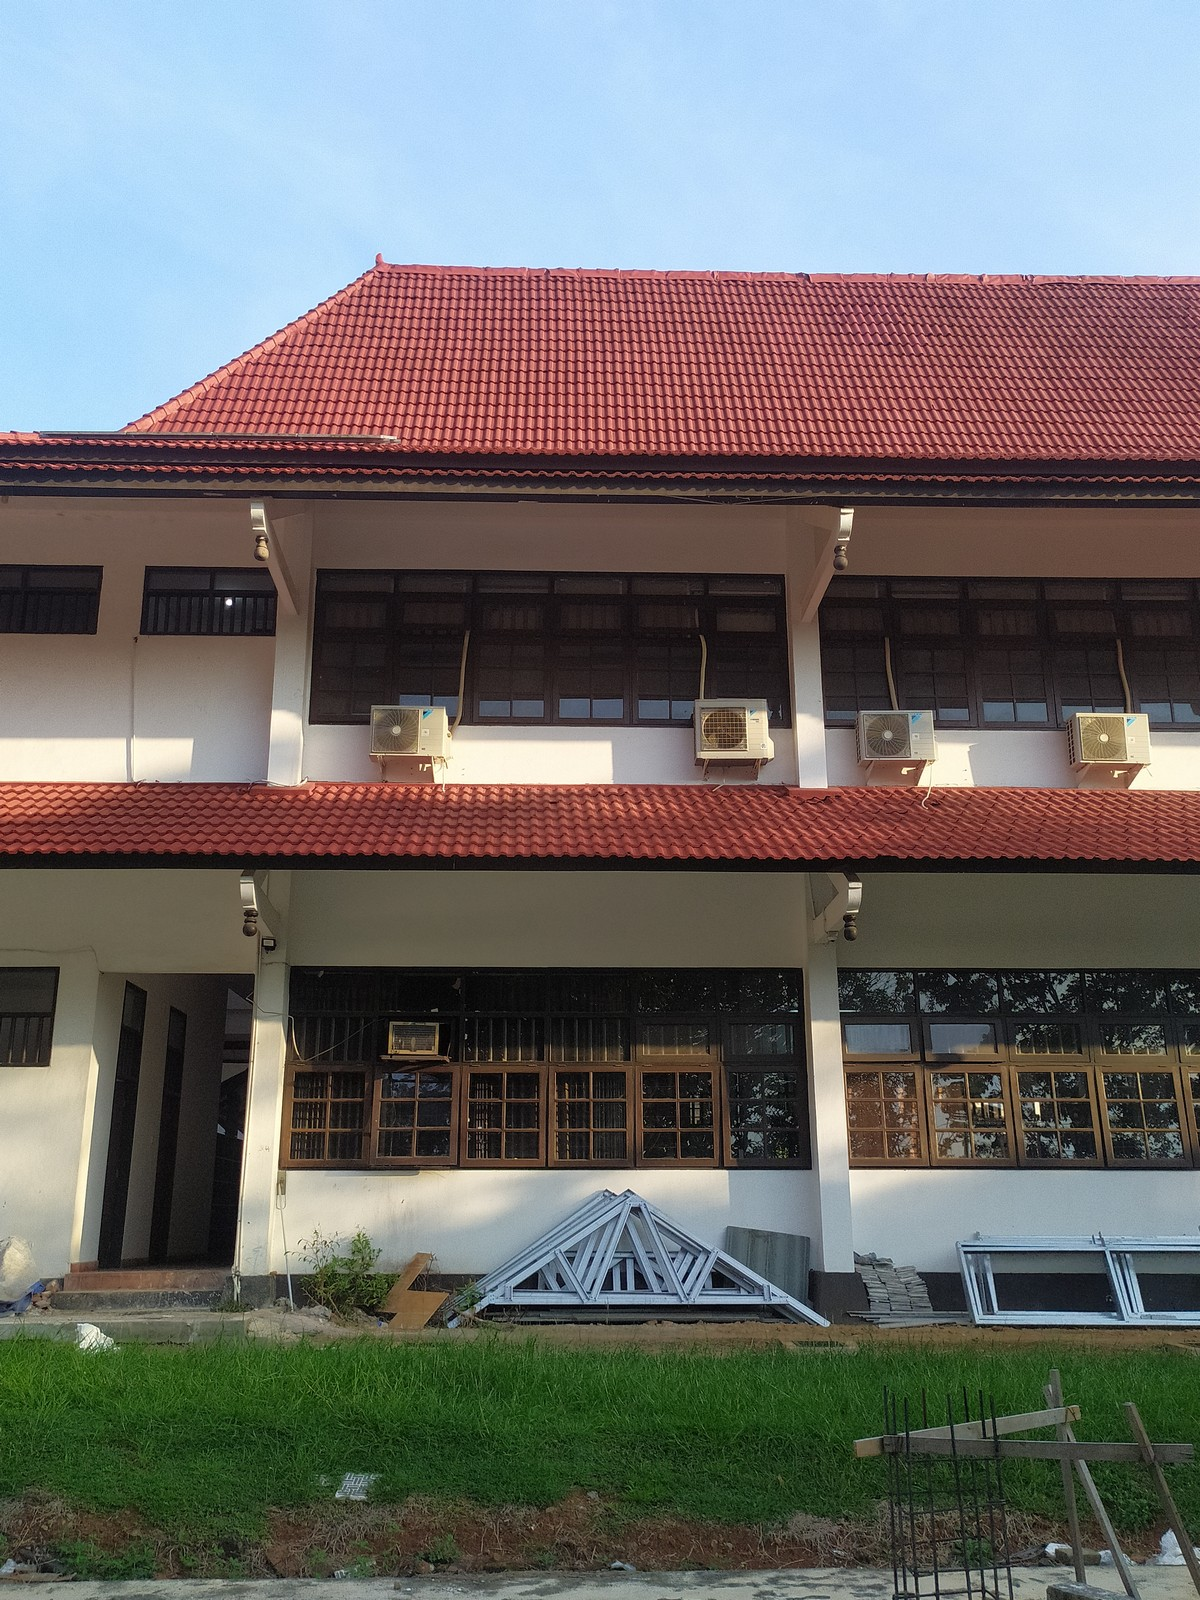concrete column: (795, 879, 868, 1284), (229, 888, 304, 1277), (258, 508, 325, 787), (780, 517, 834, 796)
